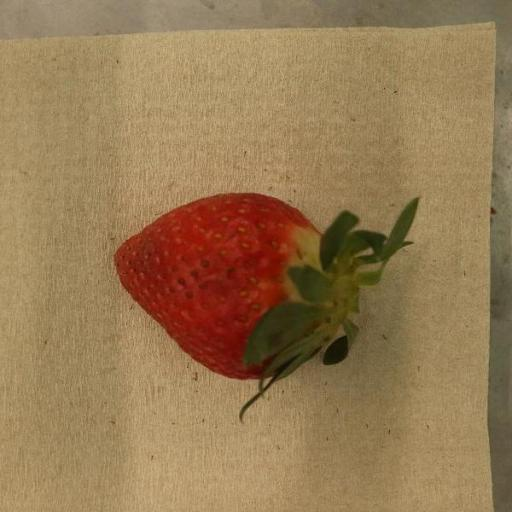Strawberry: (114, 193, 422, 422)
